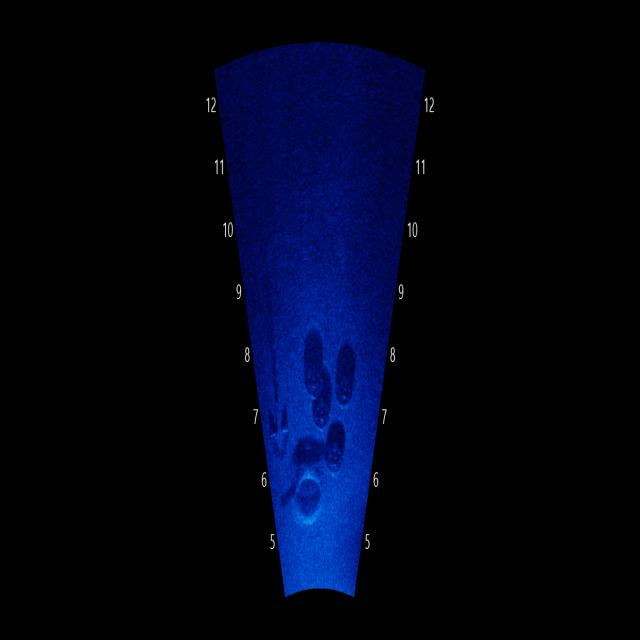circle: (291, 461, 329, 536), (321, 431, 353, 483), (332, 356, 357, 418), (307, 383, 333, 440), (303, 351, 327, 402)
